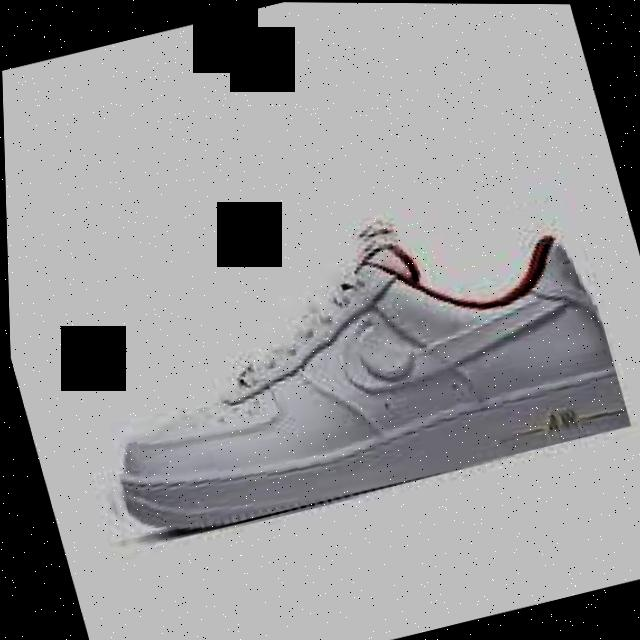shoe: (36, 170, 631, 555)
